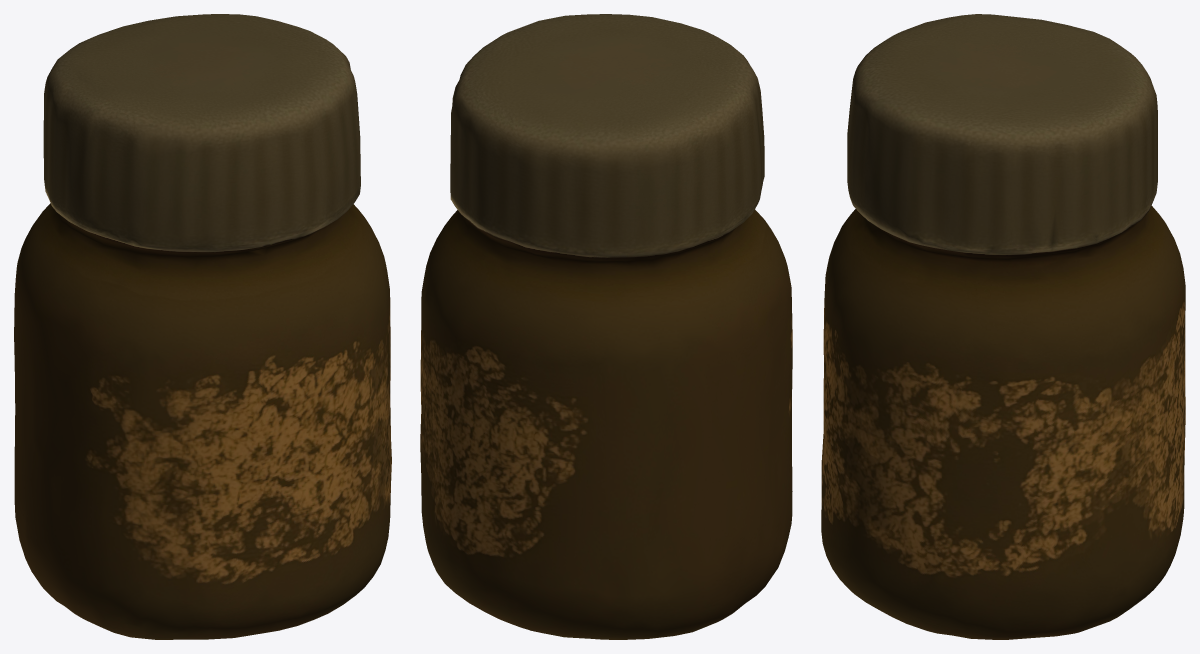
Rendered from BrownBottle.fbx.
3 renders of one model, left to right at view 1: azimuth 30°, elevation 25°; view 2: azimuth 150°, elevation 25°; view 3: azimuth 270°, elevation 25°, orthographic.
Visible parts, largest first — view 1: tripo_node_b71645ea; view 2: tripo_node_b71645ea; view 3: tripo_node_b71645ea.
Part boxes in pixels (bbox=[...]): tripo_node_b71645ea: bbox=[14, 14, 391, 639]; tripo_node_b71645ea: bbox=[420, 14, 792, 639]; tripo_node_b71645ea: bbox=[821, 14, 1185, 639].
Size of the model in its own units: 0.635 by 1 by 0.6313.
Materials: 1 (1 with a texture image).
